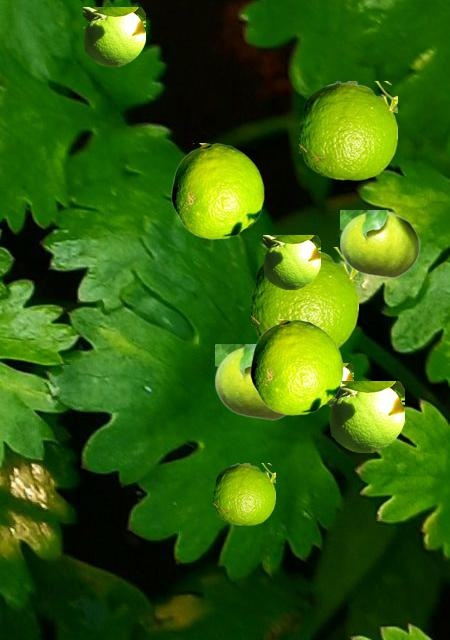dalandan: (251, 247, 357, 347), (299, 81, 396, 179), (171, 143, 263, 238), (250, 319, 342, 414), (215, 344, 287, 419), (340, 210, 419, 277), (329, 381, 403, 451), (213, 463, 274, 524), (83, 7, 144, 65), (263, 235, 319, 288), (330, 363, 352, 403)
